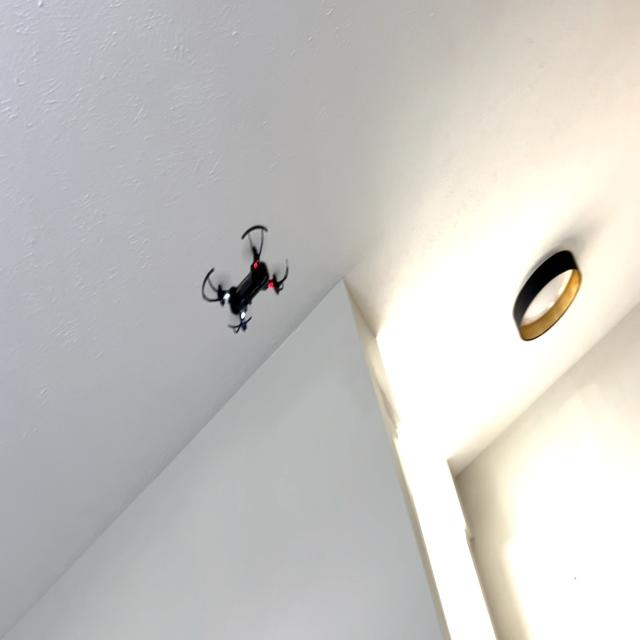drone: (193, 191, 295, 350)
